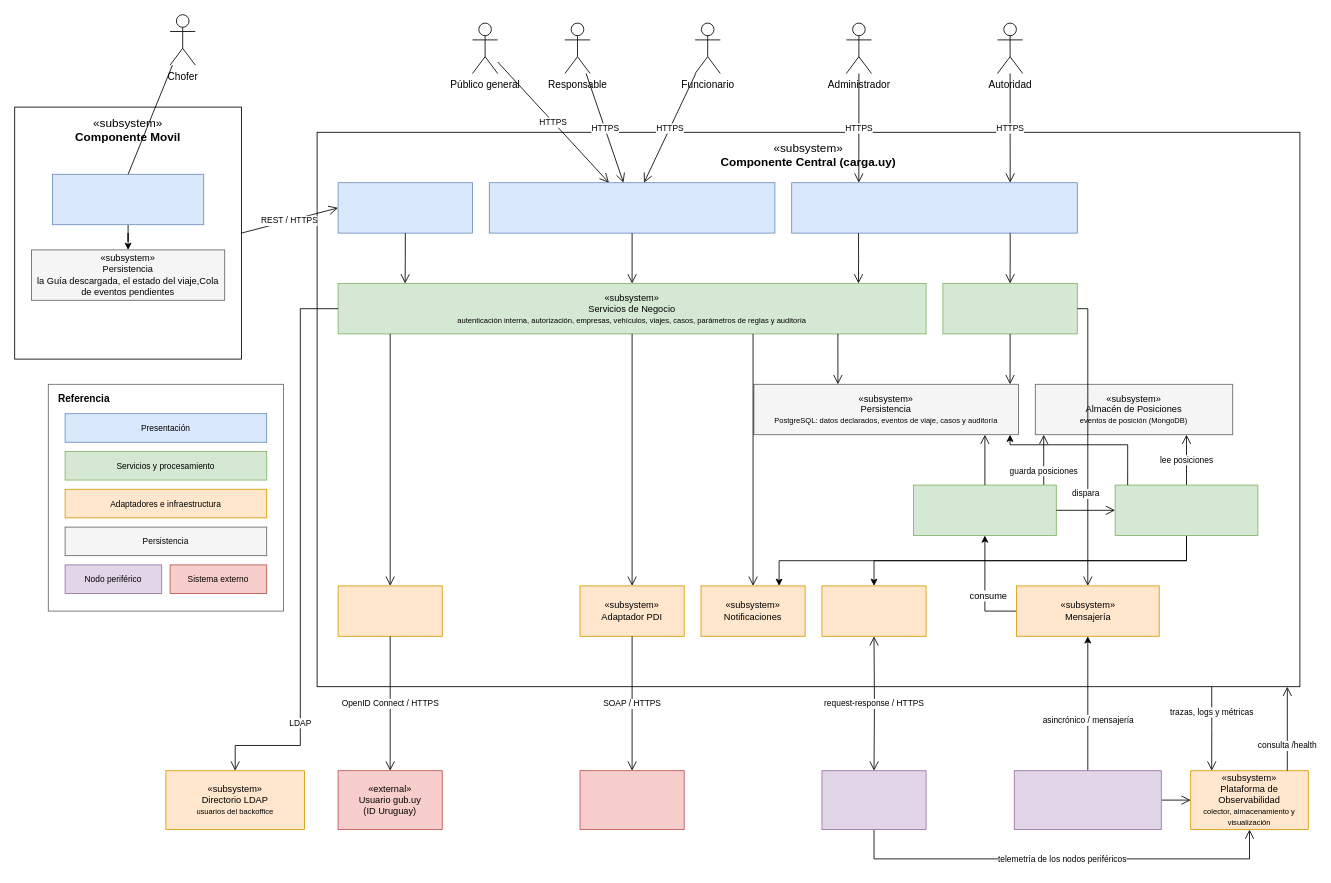
The diagram is 1331 pixels wide and 883 high, and some of its shapes have lost their labels. Each missing label, with the centre of its shape:
«external» PDI (suplantador): the point at 631,800
«subsystem» Adaptador Balanzas: the point at 873,610
«subsystem» Adaptador gub.uy: the point at 389,610
«subsystem» API REST: the point at 404,207
«subsystem» Backoffice autoridades y administradores: the point at 934,207
«subsystem» Componente Móvil: the point at 128,199
«subsystem» Frontoffice público, ciudadanos y funcionarios: the point at 631,207
«subsystem» Generación de Reportes: the point at 1009,308
«subsystem» Ingesta de Eventos: the point at 984,510
«subsystem» Motor de Fiscalización: the point at 1186,510
«subsystem» Nodo Periférico Balanzas: the point at 873,800
«subsystem» Nodo Periférico Tracking: the point at 1087,800
